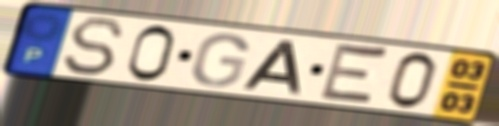0: (385, 51, 440, 110), (124, 23, 179, 82)
A: (239, 38, 304, 97)
E: (315, 40, 393, 109)
G: (188, 32, 252, 89)
S: (60, 15, 128, 78)
